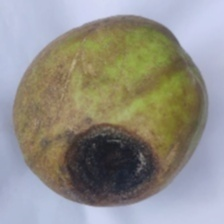guava: (13, 19, 205, 192)
